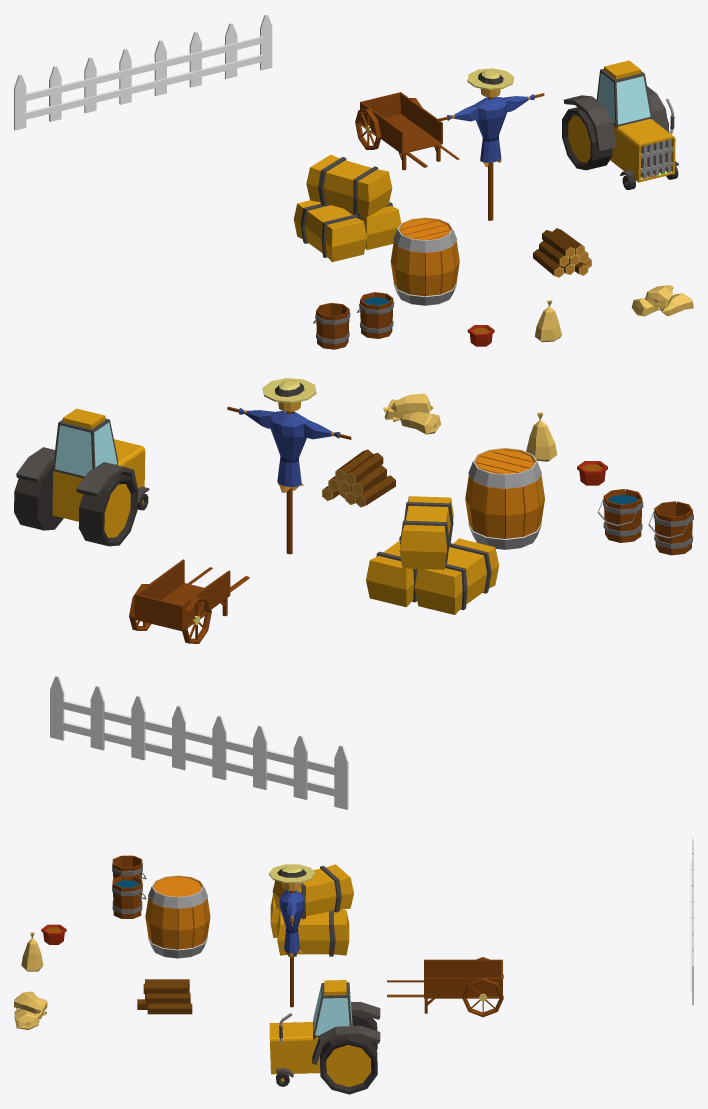
Rendered from Farm.fbx.
3 views of the same model, one above another, from view 1: azimuth 30°, elevation 25°; view 2: azimuth 150°, elevation 25°; view 3: azimuth 270°, elevation 25° (orthographic). The views are drawn at different scales.
Parts seen in each view (by area): view 1: Cube.009, Cube.010, Cube.005, Cylinder.003, Cylinder.076, Cylinder.007, Cylinder.069, Cylinder.042, Cylinder.043, Cylinder.072, Cylinder.070; view 2: Cube.009, Cube.005, Cube.010, Cylinder.003, Cylinder.076, Cylinder.007, Cylinder.069, Cylinder.043, Cylinder.042, Cylinder.072, Cylinder.070; view 3: Cube.009, Cube.010, Cylinder.003, Cylinder.076, Cylinder.007, Cylinder.069, Cylinder.043, Cylinder.072, Cylinder.042, Cube.005, Cylinder.070, Cylinder.062.
Boxes of the visible parts, x1=… form: Cube.009: x1=562, y1=60, x2=678, y2=189; Cube.010: x1=293, y1=154, x2=401, y2=262; Cube.005: x1=14, y1=14, x2=272, y2=130; Cylinder.003: x1=390, y1=217, x2=459, y2=305; Cylinder.076: x1=355, y1=92, x2=459, y2=170; Cylinder.007: x1=436, y1=68, x2=544, y2=220; Cylinder.069: x1=533, y1=228, x2=591, y2=277; Cylinder.042: x1=313, y1=303, x2=350, y2=349; Cylinder.043: x1=357, y1=292, x2=394, y2=338; Cylinder.072: x1=631, y1=285, x2=693, y2=316; Cylinder.070: x1=535, y1=300, x2=561, y2=342; Cube.009: x1=14, y1=408, x2=149, y2=546; Cube.005: x1=50, y1=675, x2=348, y2=809; Cube.010: x1=366, y1=496, x2=499, y2=614; Cylinder.003: x1=465, y1=448, x2=544, y2=549; Cylinder.076: x1=129, y1=559, x2=249, y2=643; Cylinder.007: x1=227, y1=378, x2=351, y2=554; Cylinder.069: x1=322, y1=449, x2=395, y2=507; Cylinder.043: x1=597, y1=489, x2=643, y2=542; Cylinder.042: x1=648, y1=501, x2=693, y2=555; Cylinder.072: x1=383, y1=393, x2=441, y2=434; Cylinder.070: x1=526, y1=412, x2=557, y2=461; Cube.009: x1=269, y1=980, x2=380, y2=1094; Cube.010: x1=270, y1=864, x2=353, y2=956; Cylinder.003: x1=145, y1=875, x2=210, y2=958; Cylinder.076: x1=387, y1=957, x2=503, y2=1017; Cylinder.007: x1=269, y1=864, x2=315, y2=1007; Cylinder.069: x1=137, y1=979, x2=192, y2=1014; Cylinder.043: x1=112, y1=875, x2=146, y2=918; Cylinder.072: x1=14, y1=991, x2=47, y2=1029; Cylinder.042: x1=112, y1=855, x2=146, y2=879; Cube.005: x1=690, y1=838, x2=693, y2=1005; Cylinder.070: x1=21, y1=932, x2=43, y2=971; Cylinder.062: x1=41, y1=924, x2=66, y2=944.
Bounding box in the file's own units: 22.92 × 7.13 × 31.39.
Materials: 1 (1 with a texture image).
